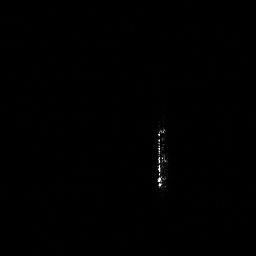ship: (151, 123, 170, 195)
